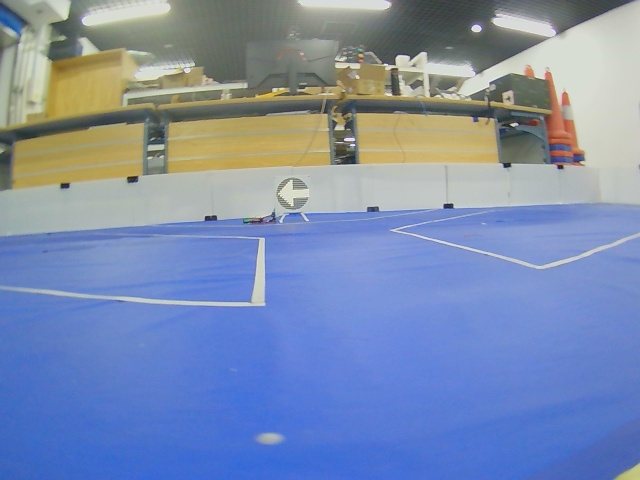left_yellow: (276, 177, 310, 210)
